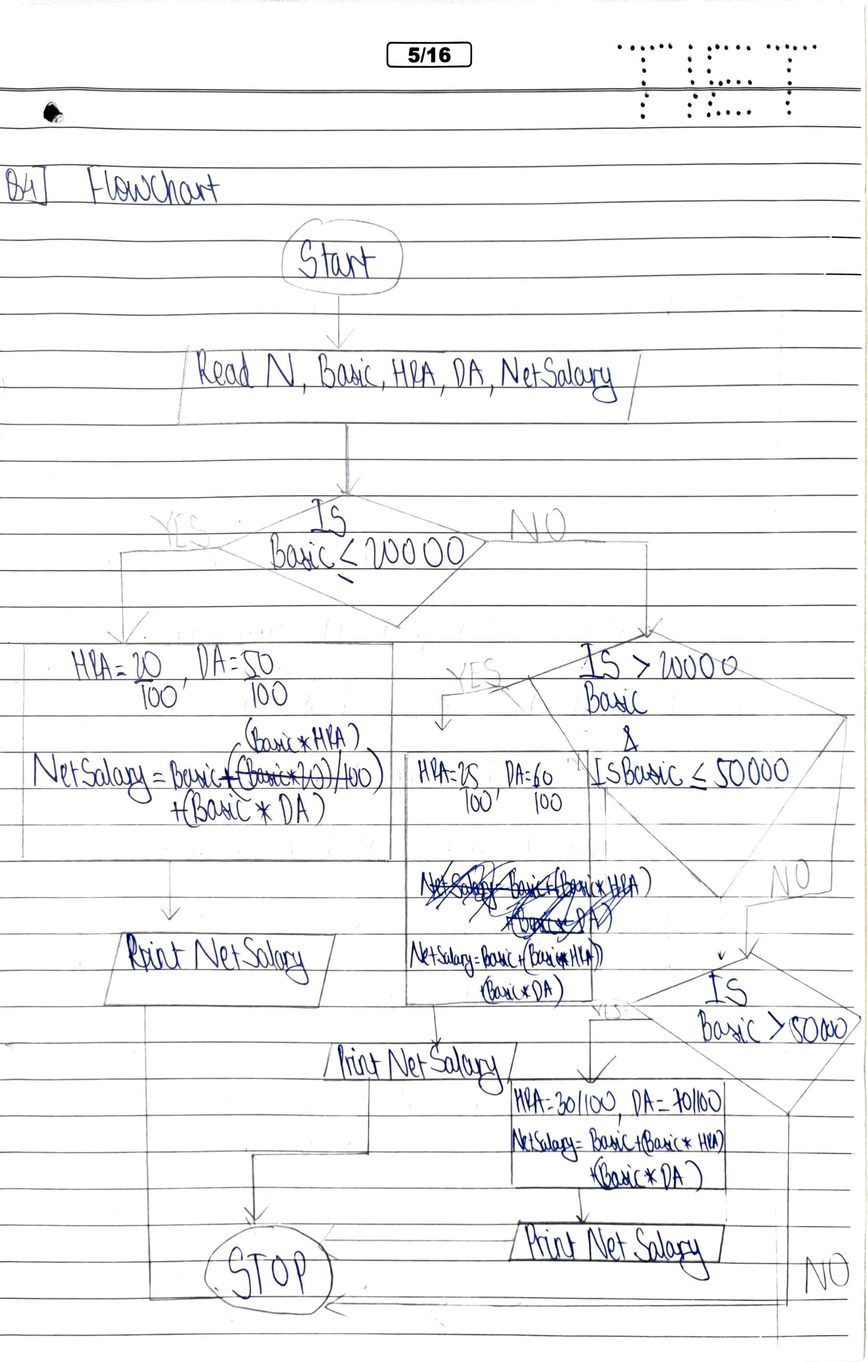cuttings: (419, 858, 640, 945), (234, 749, 372, 794)
